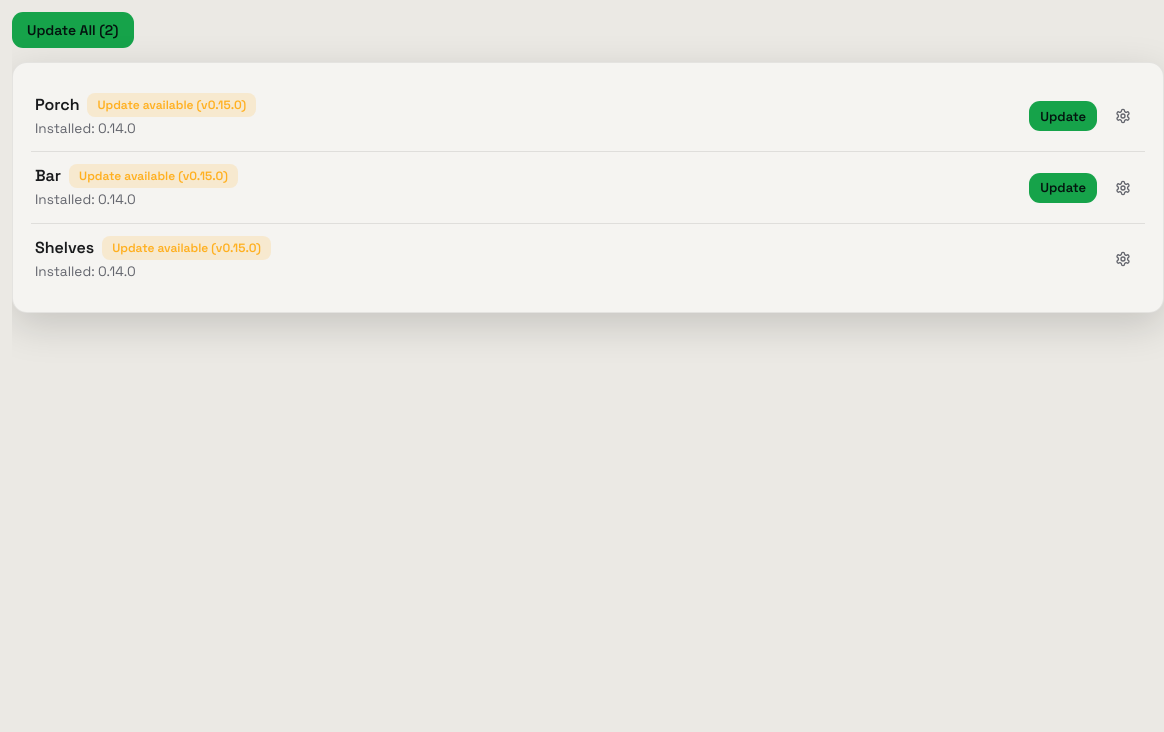
Scenario: FirmwareSection v2 › shows an "Update All" button counting only pinned, update-available controllers, and pushes updates to all of them on click
The width and height of the screenshot is (1164, 732).
Click the button "Update All (2)": (73, 30) [12,12,134,48]
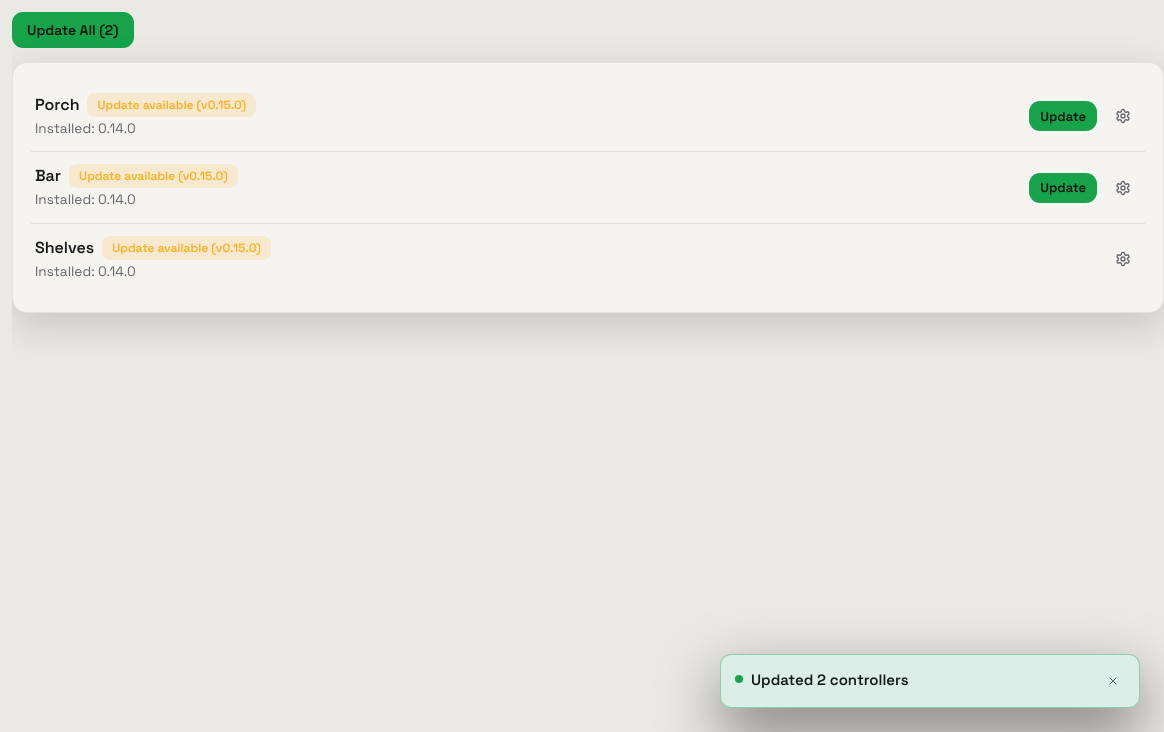
expect the message reads "Updated 2 controllers": met, box [751,670,909,689]
